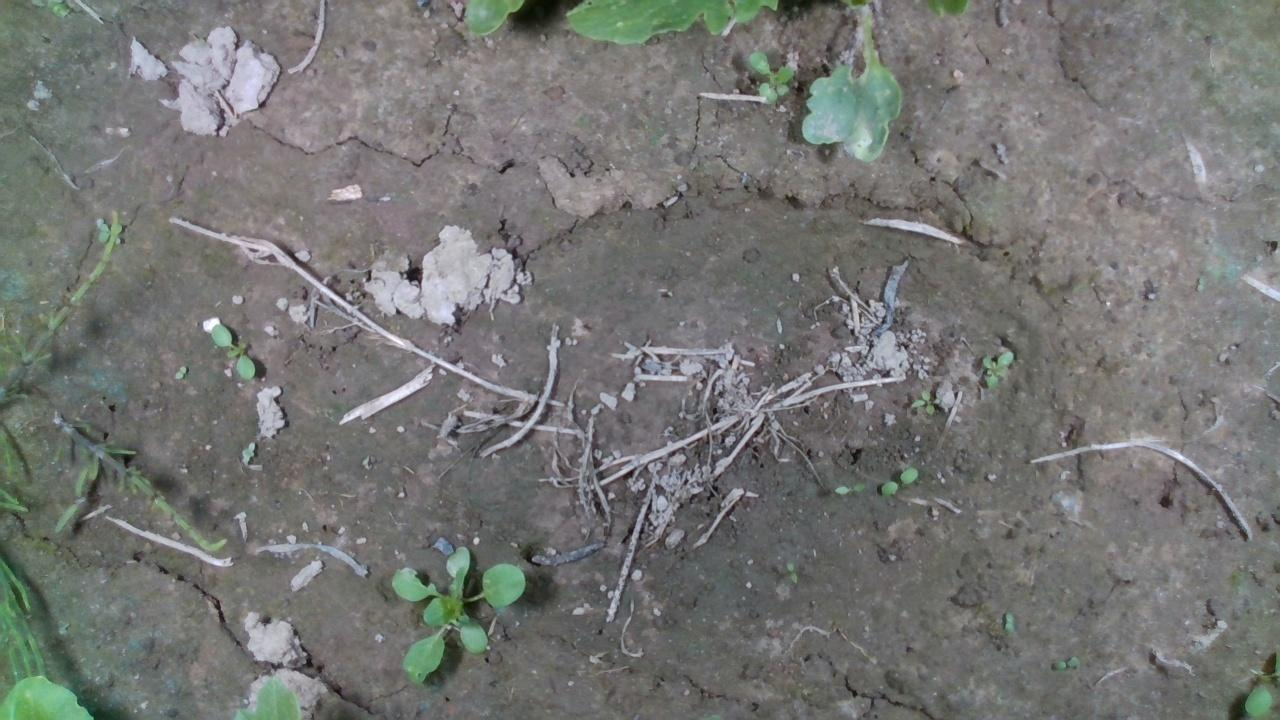weed: (209, 322, 255, 381), (745, 50, 791, 107), (982, 348, 1014, 389), (878, 466, 917, 499), (906, 385, 938, 416), (832, 480, 865, 494)
